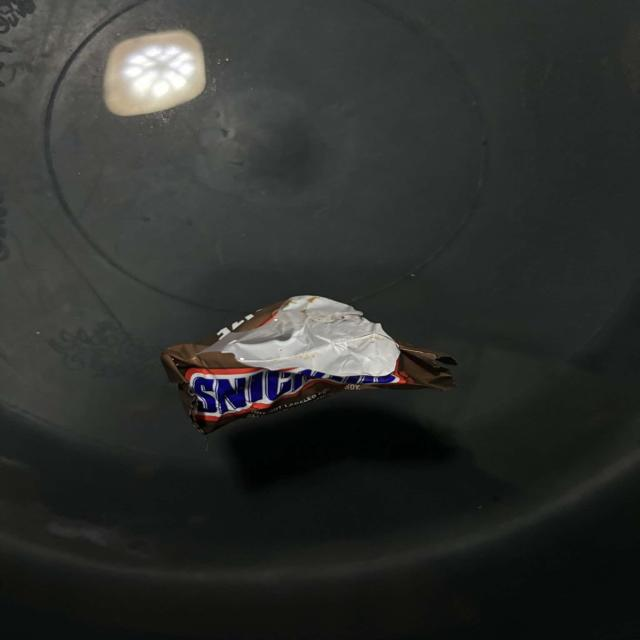Plastic Wrapper: (161, 296, 456, 435)
